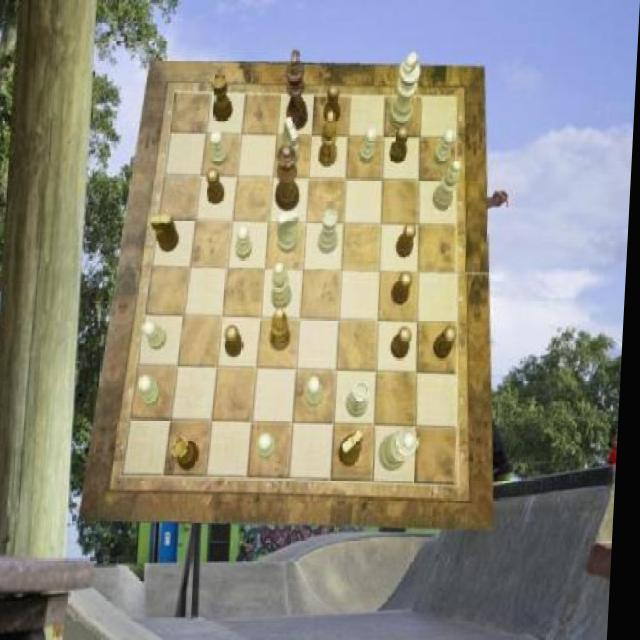bishop: (319, 111, 340, 165), (273, 308, 295, 350)
black-bishop: (284, 49, 312, 131)
black-king: (151, 215, 182, 253), (343, 429, 369, 467)
black-knight: (436, 326, 461, 360), (397, 222, 418, 258), (206, 168, 227, 204), (225, 326, 247, 359), (391, 126, 410, 164), (394, 271, 415, 305), (394, 328, 416, 360), (323, 86, 341, 125)
black-pawn: (275, 146, 302, 212)
black-queen: (211, 74, 236, 121), (175, 435, 204, 470)
black-rook: (434, 160, 462, 211), (273, 263, 295, 309)
white-bishop: (389, 51, 421, 129)
white-king: (282, 117, 301, 166), (279, 210, 300, 254)
white-knight: (434, 129, 458, 167), (144, 320, 170, 351), (141, 375, 165, 408), (361, 126, 380, 164), (210, 131, 230, 165), (237, 225, 255, 259), (311, 377, 329, 409), (261, 432, 281, 458)
white-pawn: (383, 428, 424, 472)
white-queen: (319, 209, 340, 255), (349, 382, 373, 416)
